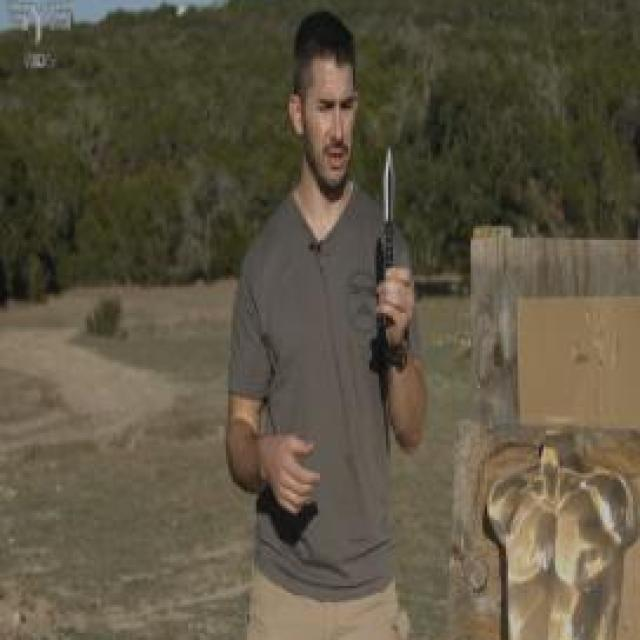knife: (376, 134, 412, 333)
